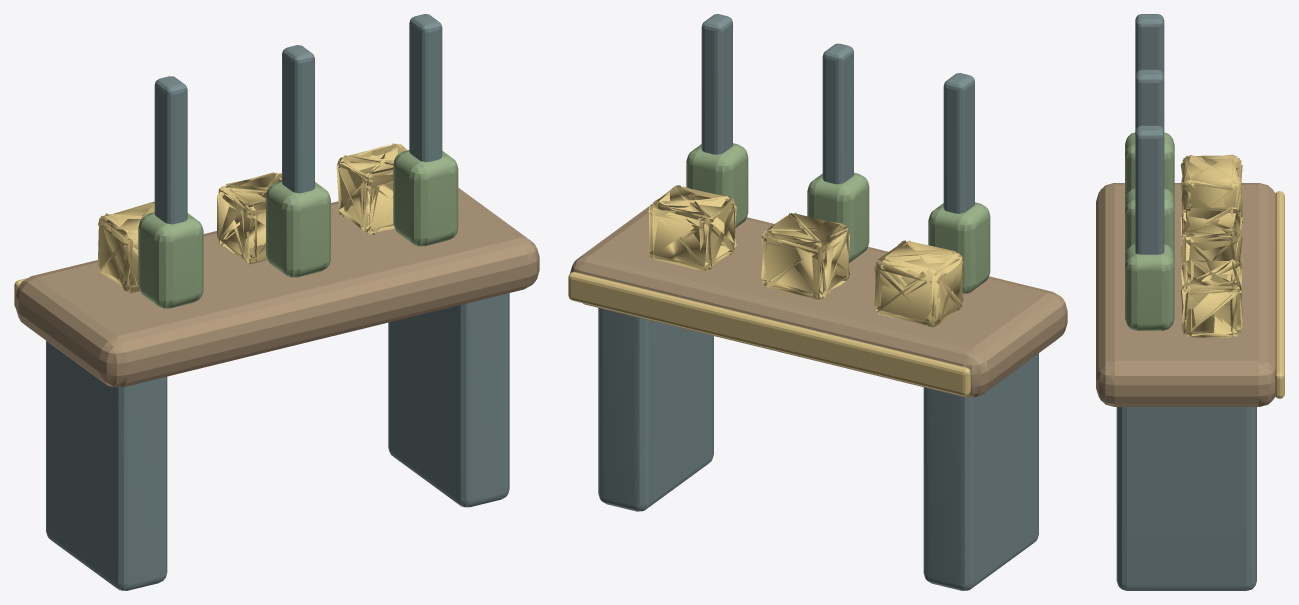
The model's file is station_rifle.glb.
3 renders of one model, left to right at view 1: azimuth 30°, elevation 25°; view 2: azimuth 150°, elevation 25°; view 3: azimuth 270°, elevation 25°, orthographic. The views are drawn at different scales.
Parts seen in each view (by area): view 1: Surface_WorldMetal, Surface_WorldWood, Surface_WorldOlive, SupplyToken2, SupplyToken1, SupplyToken0; view 2: Surface_WorldMetal, Surface_WorldWood, Surface_WorldBrass, Surface_WorldOlive, SupplyToken0, SupplyToken1, SupplyToken2; view 3: Surface_WorldMetal, Surface_WorldWood, Surface_WorldOlive, SupplyToken2, SupplyToken1, SupplyToken0, Surface_WorldBrass.
Part boxes in pixels (box(x1,y1,x2,y2)): Surface_WorldMetal: box(46, 14, 509, 590); Surface_WorldWood: box(16, 188, 539, 387); Surface_WorldOlive: box(138, 150, 458, 308); SupplyToken2: box(336, 143, 407, 234); SupplyToken1: box(217, 172, 281, 264); SupplyToken0: box(97, 201, 154, 293); Surface_WorldMetal: box(598, 14, 1038, 590); Surface_WorldWood: box(570, 205, 1067, 397); Surface_WorldBrass: box(568, 272, 970, 396); Surface_WorldOlive: box(686, 143, 990, 293); SupplyToken0: box(874, 240, 963, 327); SupplyToken1: box(761, 212, 850, 299); SupplyToken2: box(648, 185, 736, 271); Surface_WorldMetal: box(1116, 14, 1256, 590); Surface_WorldWood: box(1096, 183, 1275, 406); Surface_WorldOlive: box(1125, 132, 1174, 330); SupplyToken2: box(1180, 259, 1242, 337); SupplyToken1: box(1180, 207, 1242, 274); SupplyToken0: box(1180, 154, 1242, 223); Surface_WorldBrass: box(1275, 191, 1284, 398).
Bounding box in the file's own units: 1.1 × 1.16 × 0.4575.
